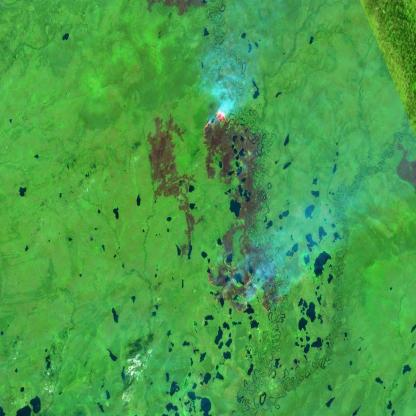fire: (202, 262, 286, 318), (199, 110, 236, 136)
